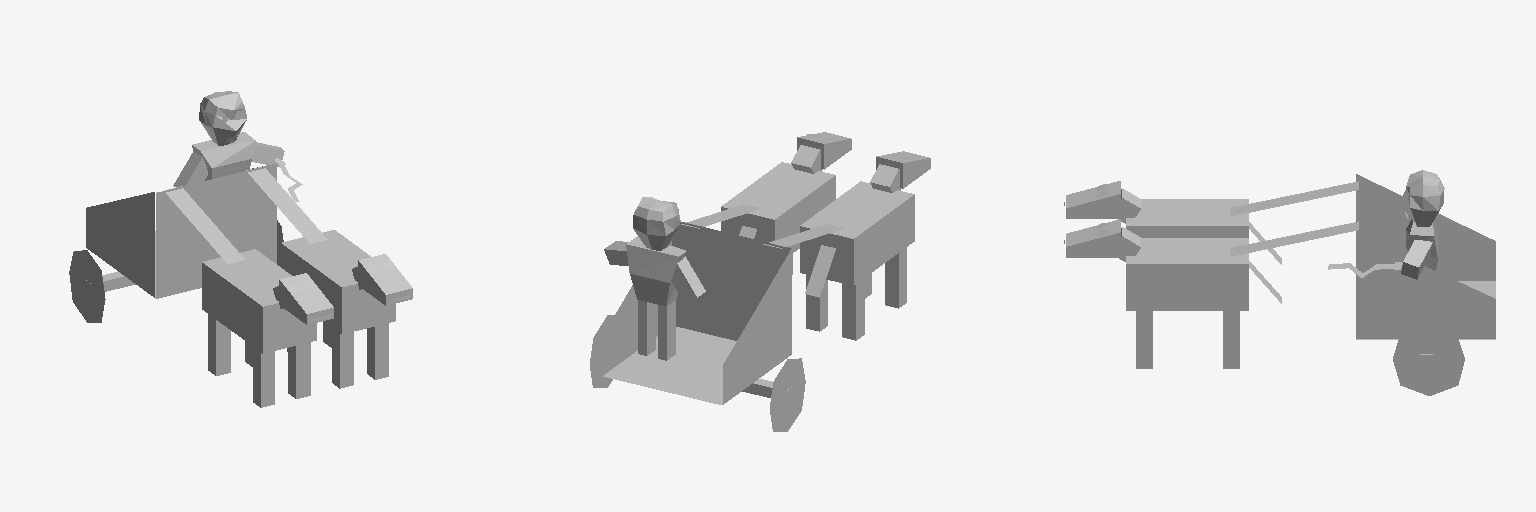
The model's file is heavychariot1f.obj.
The picture shows the model from 3 angles: view 1: azimuth 30°, elevation 25°; view 2: azimuth 150°, elevation 25°; view 3: azimuth 270°, elevation 25°; orthographic projection.
Visible parts, largest first — view 1: Plane.005_Plane.006, Cube.015_Cube.017, Cube.006_Cube.009, Plane.003, Plane.007_Plane.008, Cube, Cube.001, Cube.014_Cube.016, Cube.021_Cube.023, Plane.013_Plane.014, Plane.012_Plane.013, Cube.018_Cube.020 (+6 smaller); view 2: Plane.005_Plane.006, Cube.015_Cube.017, Cube.006_Cube.009, Plane.002, Plane.003, Cube.001, Plane.004, Cube, Plane.007_Plane.008, Cube.016_Cube.018, Cube.019_Cube.021, Cube.014_Cube.016 (+11 smaller); view 3: Plane.004, Cube.006_Cube.009, Plane.003, Cube.015_Cube.017, Plane.006_Plane.007, Cube, Cube.014_Cube.016, Cube.021_Cube.023, Plane.013_Plane.014, Plane.012_Plane.013, Cube.010_Cube.012, Cube.011_Cube.013 (+2 smaller).
Boxes of the visible parts, x1,y1,x2,y2 form: Plane.005_Plane.006: [156, 163, 276, 298]; Cube.015_Cube.017: [202, 249, 316, 353]; Cube.006_Cube.009: [281, 230, 395, 333]; Plane.003: [86, 192, 154, 297]; Plane.007_Plane.008: [69, 250, 105, 322]; Cube: [199, 91, 246, 145]; Cube.001: [192, 132, 255, 180]; Cube.014_Cube.016: [358, 254, 412, 305]; Cube.021_Cube.023: [279, 273, 333, 324]; Plane.013_Plane.014: [246, 166, 327, 243]; Plane.012_Plane.013: [164, 186, 244, 263]; Cube.018_Cube.020: [288, 342, 310, 398]; Plane.005_Plane.006: [672, 222, 791, 340]; Cube.015_Cube.017: [800, 181, 914, 285]; Cube.006_Cube.009: [721, 162, 835, 253]; Plane.002: [603, 327, 736, 404]; Plane.003: [723, 249, 791, 404]; Cube.001: [626, 236, 686, 306]; Plane.004: [603, 241, 671, 375]; Cube: [633, 197, 680, 250]; Plane.007_Plane.008: [770, 358, 805, 431]; Cube.016_Cube.018: [842, 278, 864, 340]; Cube.019_Cube.021: [885, 247, 906, 308]; Cube.014_Cube.016: [797, 132, 851, 169]; Plane.004: [1356, 234, 1495, 338]; Cube.006_Cube.009: [1126, 238, 1248, 310]; Plane.003: [1356, 174, 1495, 280]; Cube.015_Cube.017: [1126, 199, 1248, 237]; Plane.006_Plane.007: [1393, 323, 1464, 395]; Cube: [1399, 170, 1444, 226]; Cube.014_Cube.016: [1066, 219, 1120, 257]; Cube.021_Cube.023: [1066, 181, 1120, 218]; Plane.013_Plane.014: [1231, 221, 1358, 256]; Plane.012_Plane.013: [1231, 181, 1358, 215]; Cube.010_Cube.012: [1223, 311, 1239, 368]; Cube.011_Cube.013: [1136, 311, 1152, 368].
Size of the model in its own units: 7.54 by 7.5 by 14.9.